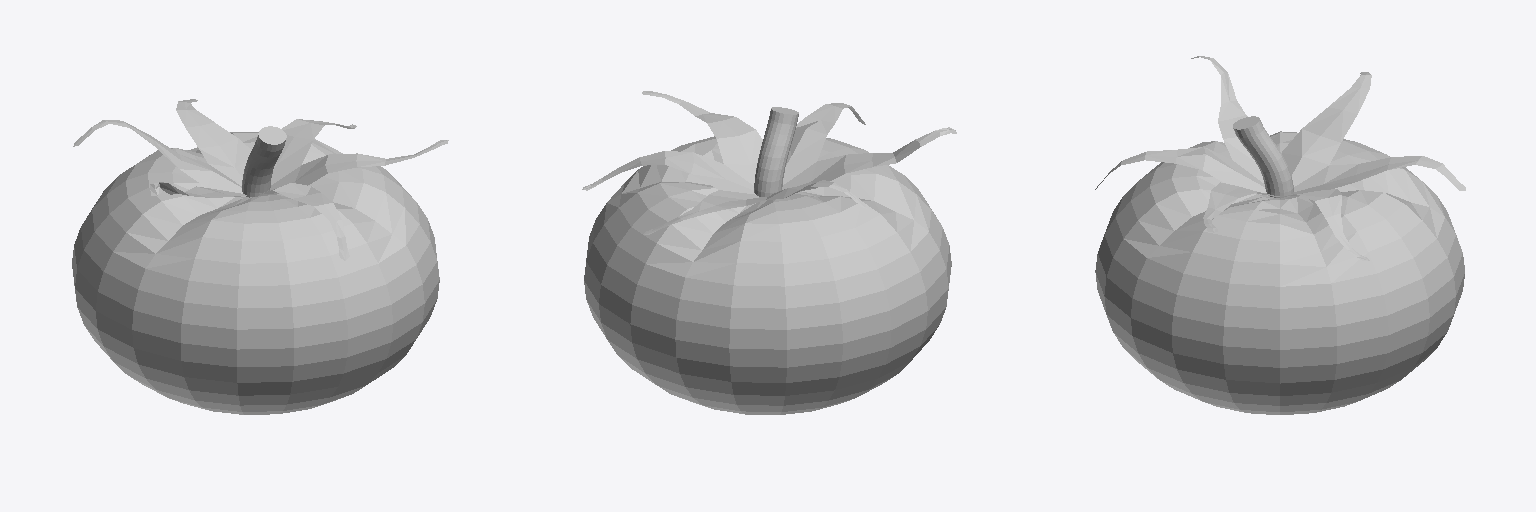
File: tomato.obj
The picture shows the model from 3 angles: view 1: azimuth 30°, elevation 25°; view 2: azimuth 150°, elevation 25°; view 3: azimuth 270°, elevation 25°; orthographic projection.
Parts seen in each view (by area): view 1: tomato1:tmt002:pSphere1 tomato1:tmt002:group1, tomato1:tmt002:pSphere1 tomato1:tmt002:group1 tomato1:tmt002:pDi, tomato1:tmt002:group1 tomato1:tmt002:pCylinder1; view 2: tomato1:tmt002:pSphere1 tomato1:tmt002:group1, tomato1:tmt002:pSphere1 tomato1:tmt002:group1 tomato1:tmt002:pDi, tomato1:tmt002:group1 tomato1:tmt002:pCylinder1; view 3: tomato1:tmt002:pSphere1 tomato1:tmt002:group1, tomato1:tmt002:pSphere1 tomato1:tmt002:group1 tomato1:tmt002:pDi, tomato1:tmt002:group1 tomato1:tmt002:pCylinder1.
Part boxes in pixels (x1,y1,x2,y2): tomato1:tmt002:pSphere1 tomato1:tmt002:group1: (72, 132, 439, 414); tomato1:tmt002:pSphere1 tomato1:tmt002:group1 tomato1:tmt002:pDi: (73, 99, 448, 260); tomato1:tmt002:group1 tomato1:tmt002:pCylinder1: (242, 126, 286, 197); tomato1:tmt002:pSphere1 tomato1:tmt002:group1: (584, 136, 951, 414); tomato1:tmt002:pSphere1 tomato1:tmt002:group1 tomato1:tmt002:pDi: (582, 91, 956, 234); tomato1:tmt002:group1 tomato1:tmt002:pCylinder1: (754, 107, 798, 196); tomato1:tmt002:pSphere1 tomato1:tmt002:group1: (1095, 131, 1464, 414); tomato1:tmt002:pSphere1 tomato1:tmt002:group1 tomato1:tmt002:pDi: (1095, 56, 1465, 260); tomato1:tmt002:group1 tomato1:tmt002:pCylinder1: (1233, 116, 1293, 198).
Size of the model in its own units: 15.88 by 12.93 by 15.98.